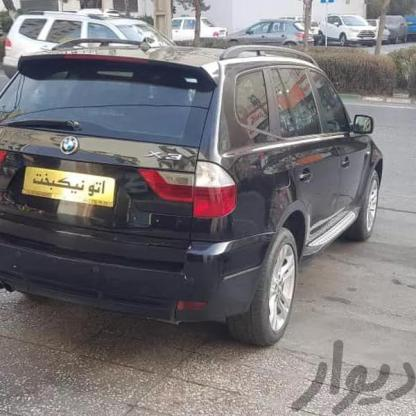Car: (0, 46, 395, 341), (0, 0, 142, 100), (220, 10, 338, 61), (158, 8, 230, 64), (312, 10, 379, 51), (378, 17, 414, 44)
